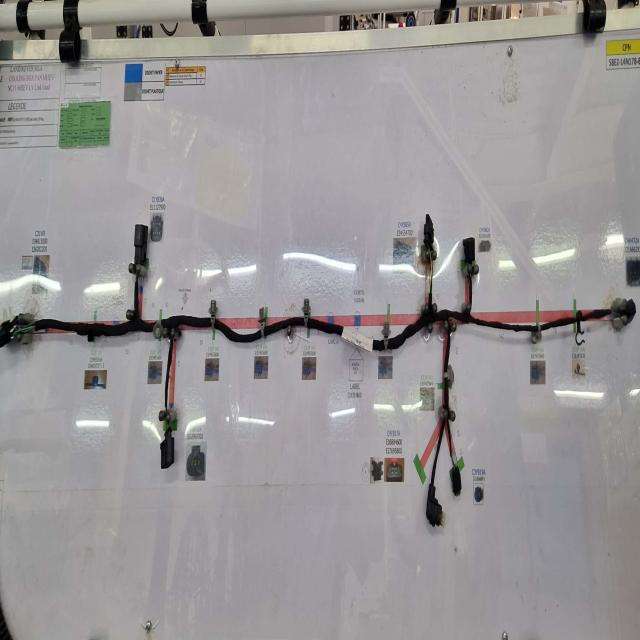Clip: (533, 307, 543, 341), (209, 300, 219, 331), (260, 304, 269, 338), (577, 307, 584, 344), (153, 317, 164, 339), (382, 318, 389, 350), (304, 295, 311, 326), (445, 365, 455, 384), (89, 322, 95, 342)
Connector: (426, 481, 444, 528), (160, 426, 175, 470), (133, 220, 145, 263), (423, 209, 433, 253), (450, 463, 460, 497), (0, 320, 11, 348), (463, 235, 474, 262), (626, 293, 636, 320)
Gape: (11, 316, 33, 335), (608, 301, 622, 321), (426, 248, 431, 296), (165, 408, 172, 433), (134, 258, 142, 279), (450, 449, 456, 468)
Info: (342, 328, 372, 356)
MHEV_N11_Cable: (37, 275, 609, 482)
